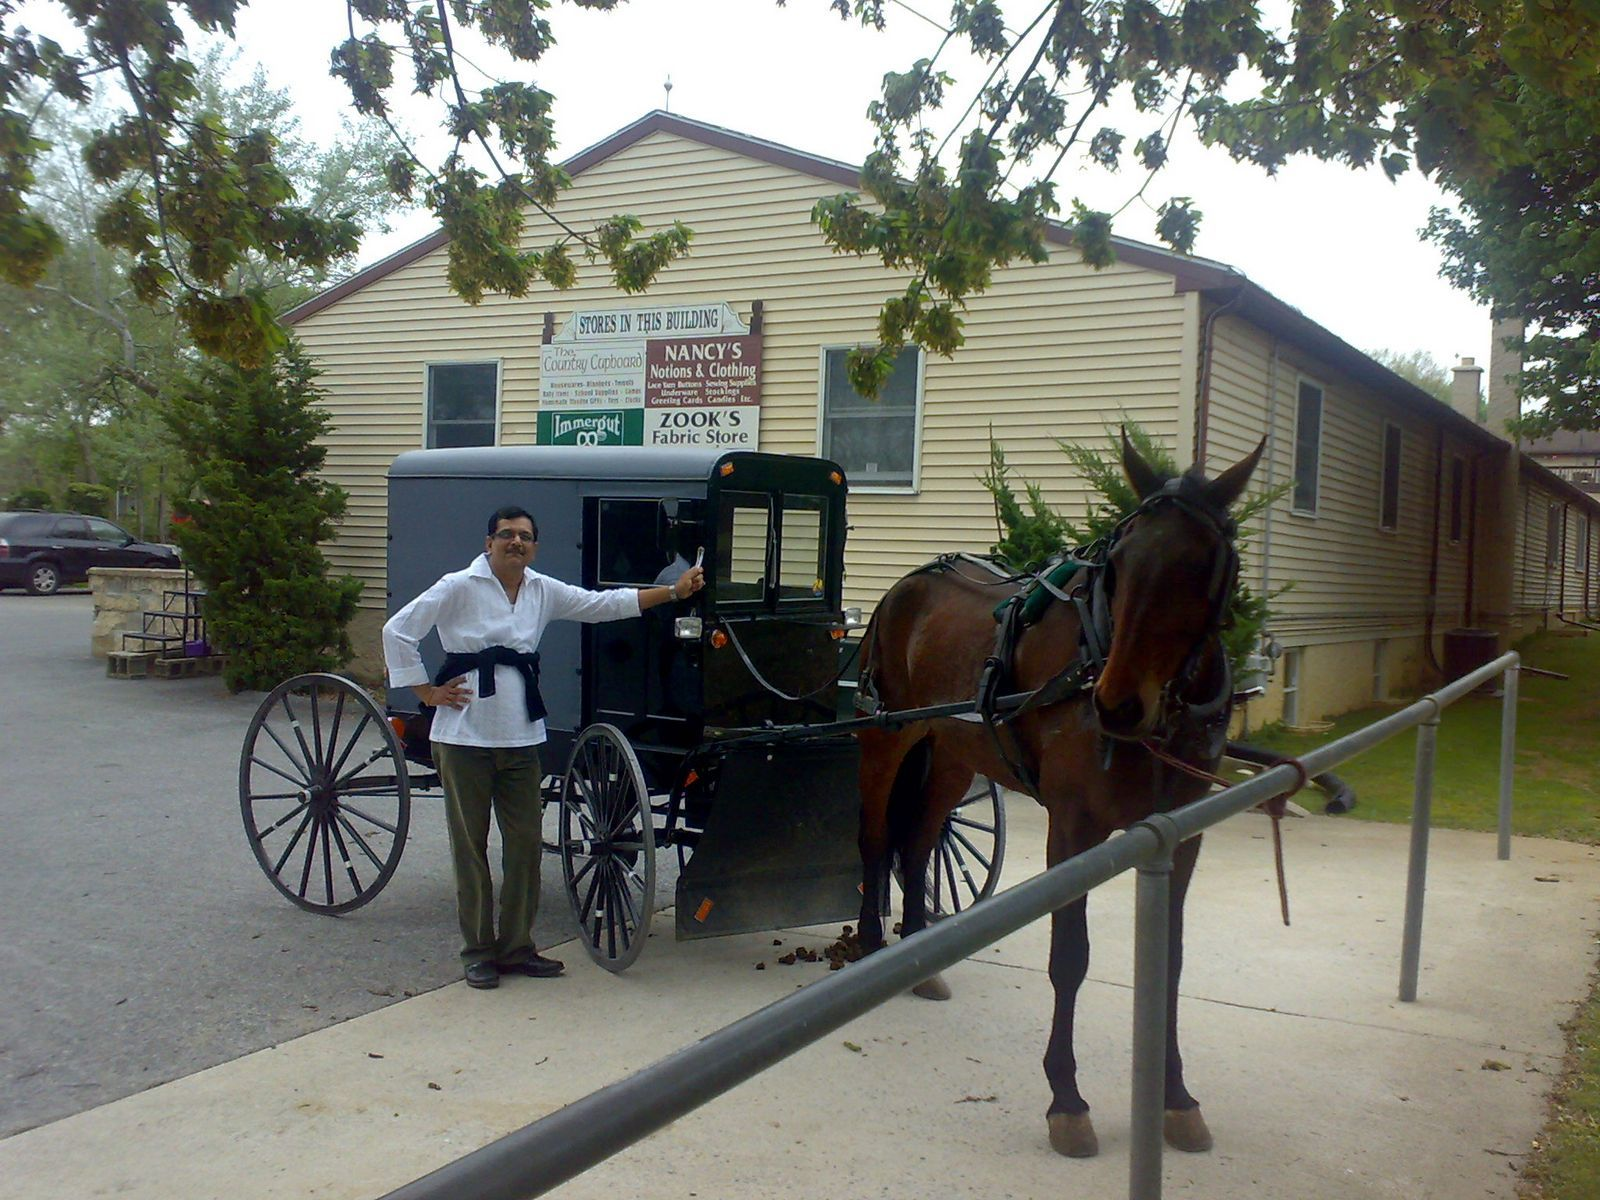horse: (852, 421, 1264, 1166)
